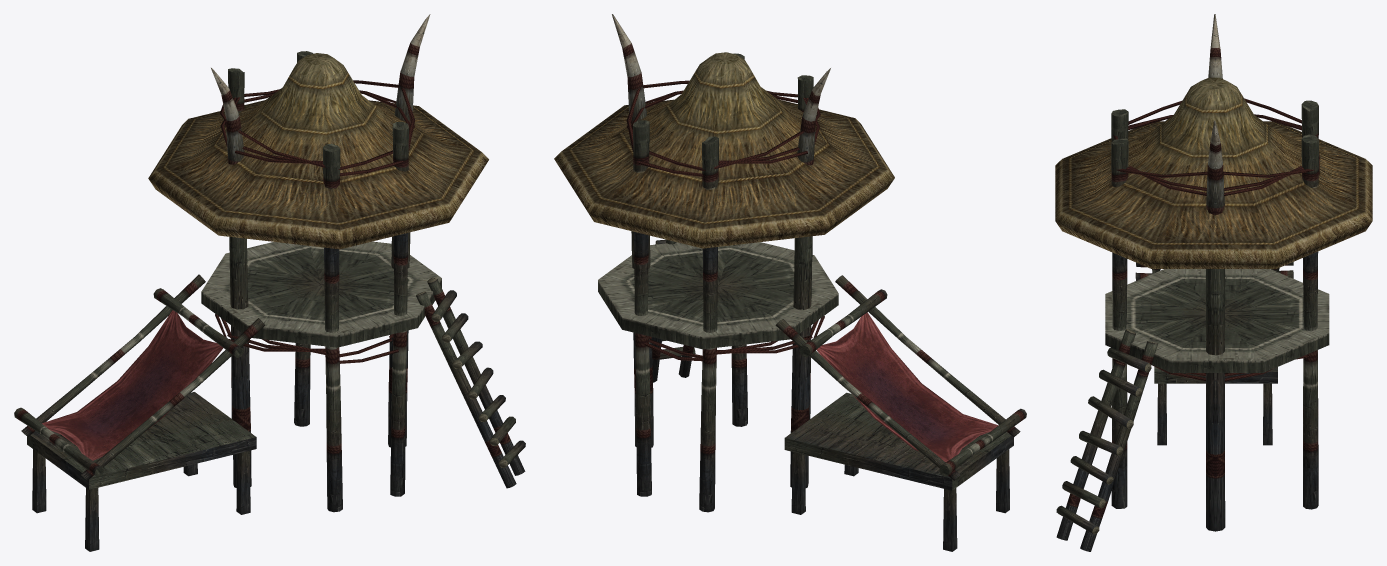
File: camp_redthief_build_02.fbx
The picture shows the model from 3 angles, left to right: view 1: azimuth 30°, elevation 25°; view 2: azimuth 150°, elevation 25°; view 3: azimuth 270°, elevation 25°; orthographic projection.
Visible parts, largest first — view 1: camp_redthief_build_02; view 2: camp_redthief_build_02; view 3: camp_redthief_build_02.
Boxes of the visible parts, x1=… form: camp_redthief_build_02: x1=14, y1=14, x2=525, y2=551; camp_redthief_build_02: x1=554, y1=14, x2=1026, y2=551; camp_redthief_build_02: x1=1055, y1=14, x2=1372, y2=551.
Size of the model in its own units: 12.77 by 12.62 by 8.52.
